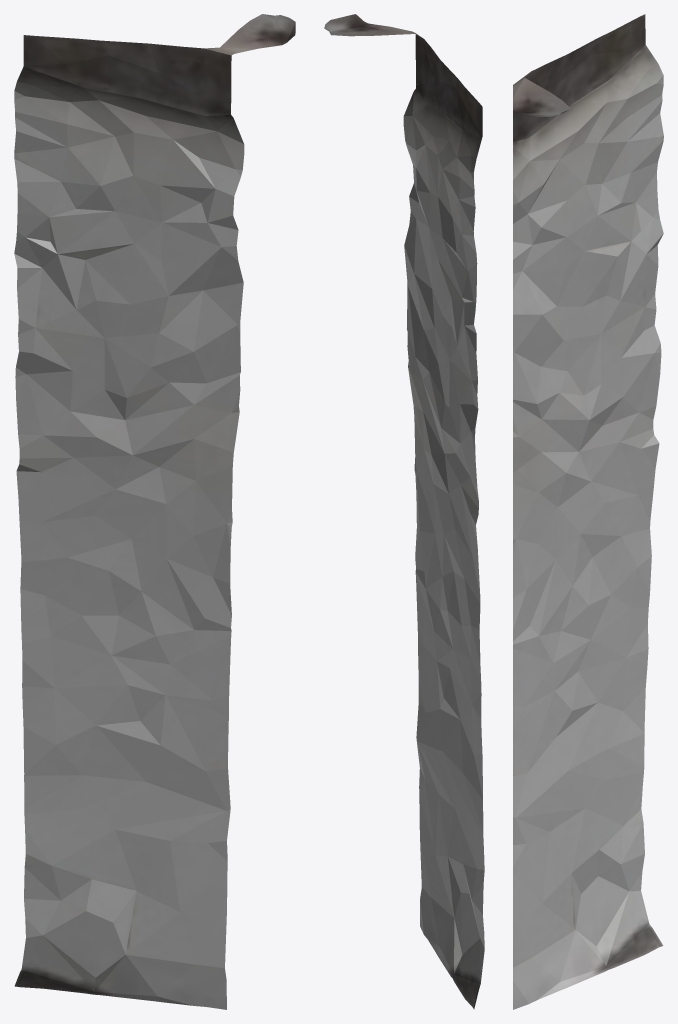
The picture shows the model from 3 angles, left to right: view 1: azimuth 30°, elevation 25°; view 2: azimuth 150°, elevation 25°; view 3: azimuth 270°, elevation 25°; orthographic projection. The views are drawn at different scales.
Size of the model in its own units: 0.3975 by 1.67 by 0.2457.
Materials: 1 (1 with a texture image).
